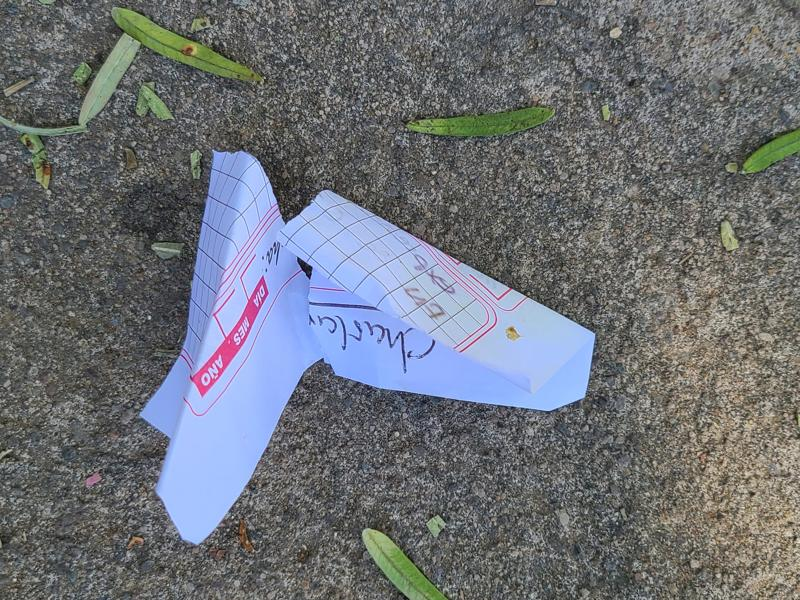papel: (140, 152, 598, 546)
